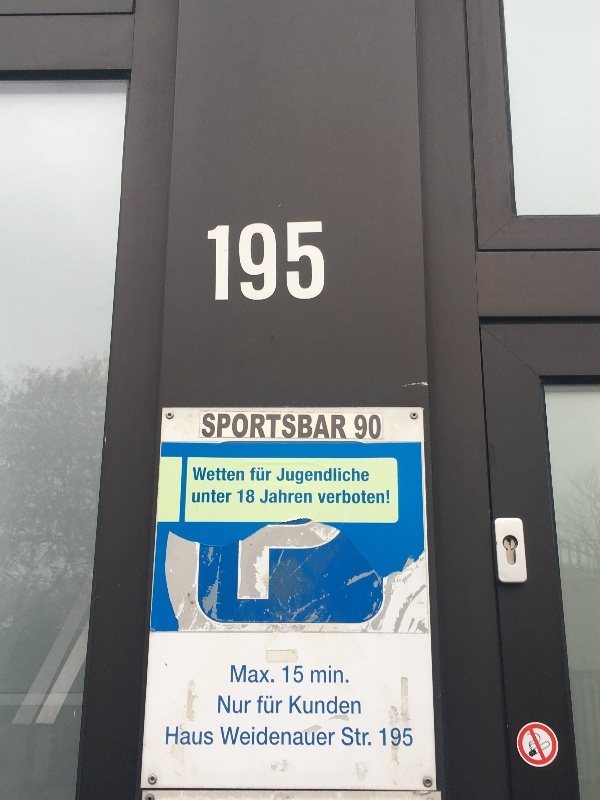text: (209, 220, 224, 303), (225, 220, 240, 303), (241, 220, 256, 303), (257, 220, 272, 303), (273, 220, 288, 303), (289, 220, 304, 303), (305, 220, 320, 303), (241, 522, 256, 601), (257, 522, 272, 601), (273, 522, 288, 601), (289, 522, 304, 601), (305, 522, 320, 601), (321, 522, 336, 601), (209, 413, 224, 440), (225, 413, 240, 440), (241, 413, 256, 440), (257, 413, 272, 440), (273, 413, 288, 440), (289, 413, 304, 440), (305, 413, 320, 440), (321, 413, 336, 440), (337, 522, 342, 601), (321, 220, 325, 303), (355, 415, 368, 439), (385, 727, 400, 747), (241, 664, 256, 684), (257, 664, 272, 684), (321, 665, 336, 685), (289, 695, 304, 715), (305, 695, 320, 715), (321, 695, 336, 715), (337, 695, 352, 715), (177, 726, 192, 746), (193, 726, 208, 746), (353, 726, 368, 746), (369, 415, 381, 439), (289, 665, 304, 684), (225, 695, 240, 714), (225, 727, 240, 746), (241, 727, 256, 746), (257, 727, 272, 746), (273, 727, 288, 746), (289, 727, 304, 746), (305, 727, 320, 746), (321, 727, 336, 746), (353, 468, 369, 485), (337, 413, 347, 440), (257, 696, 272, 714), (289, 468, 304, 485), (305, 468, 320, 485), (321, 468, 336, 485), (337, 468, 352, 485), (321, 489, 336, 505), (337, 489, 352, 505), (353, 489, 368, 505), (369, 489, 384, 505), (401, 727, 413, 747), (337, 665, 349, 685), (257, 468, 272, 482), (193, 489, 208, 503), (209, 489, 224, 503), (273, 490, 288, 504), (289, 490, 304, 504), (241, 695, 252, 714), (342, 726, 352, 746), (273, 696, 284, 714), (241, 490, 255, 504), (193, 468, 208, 481), (209, 468, 224, 481), (225, 468, 240, 481), (231, 664, 240, 684), (311, 665, 320, 685), (167, 726, 176, 746), (353, 695, 361, 715), (238, 522, 240, 601), (279, 468, 288, 485), (203, 413, 208, 440), (282, 665, 288, 684), (225, 489, 233, 503), (379, 727, 384, 747), (209, 726, 214, 746), (265, 490, 272, 504), (305, 490, 312, 504), (219, 695, 224, 714), (250, 468, 256, 482), (385, 489, 390, 505), (220, 727, 224, 746), (369, 726, 372, 746), (237, 490, 240, 504), (273, 664, 275, 684), (241, 468, 244, 481), (318, 489, 320, 505)
